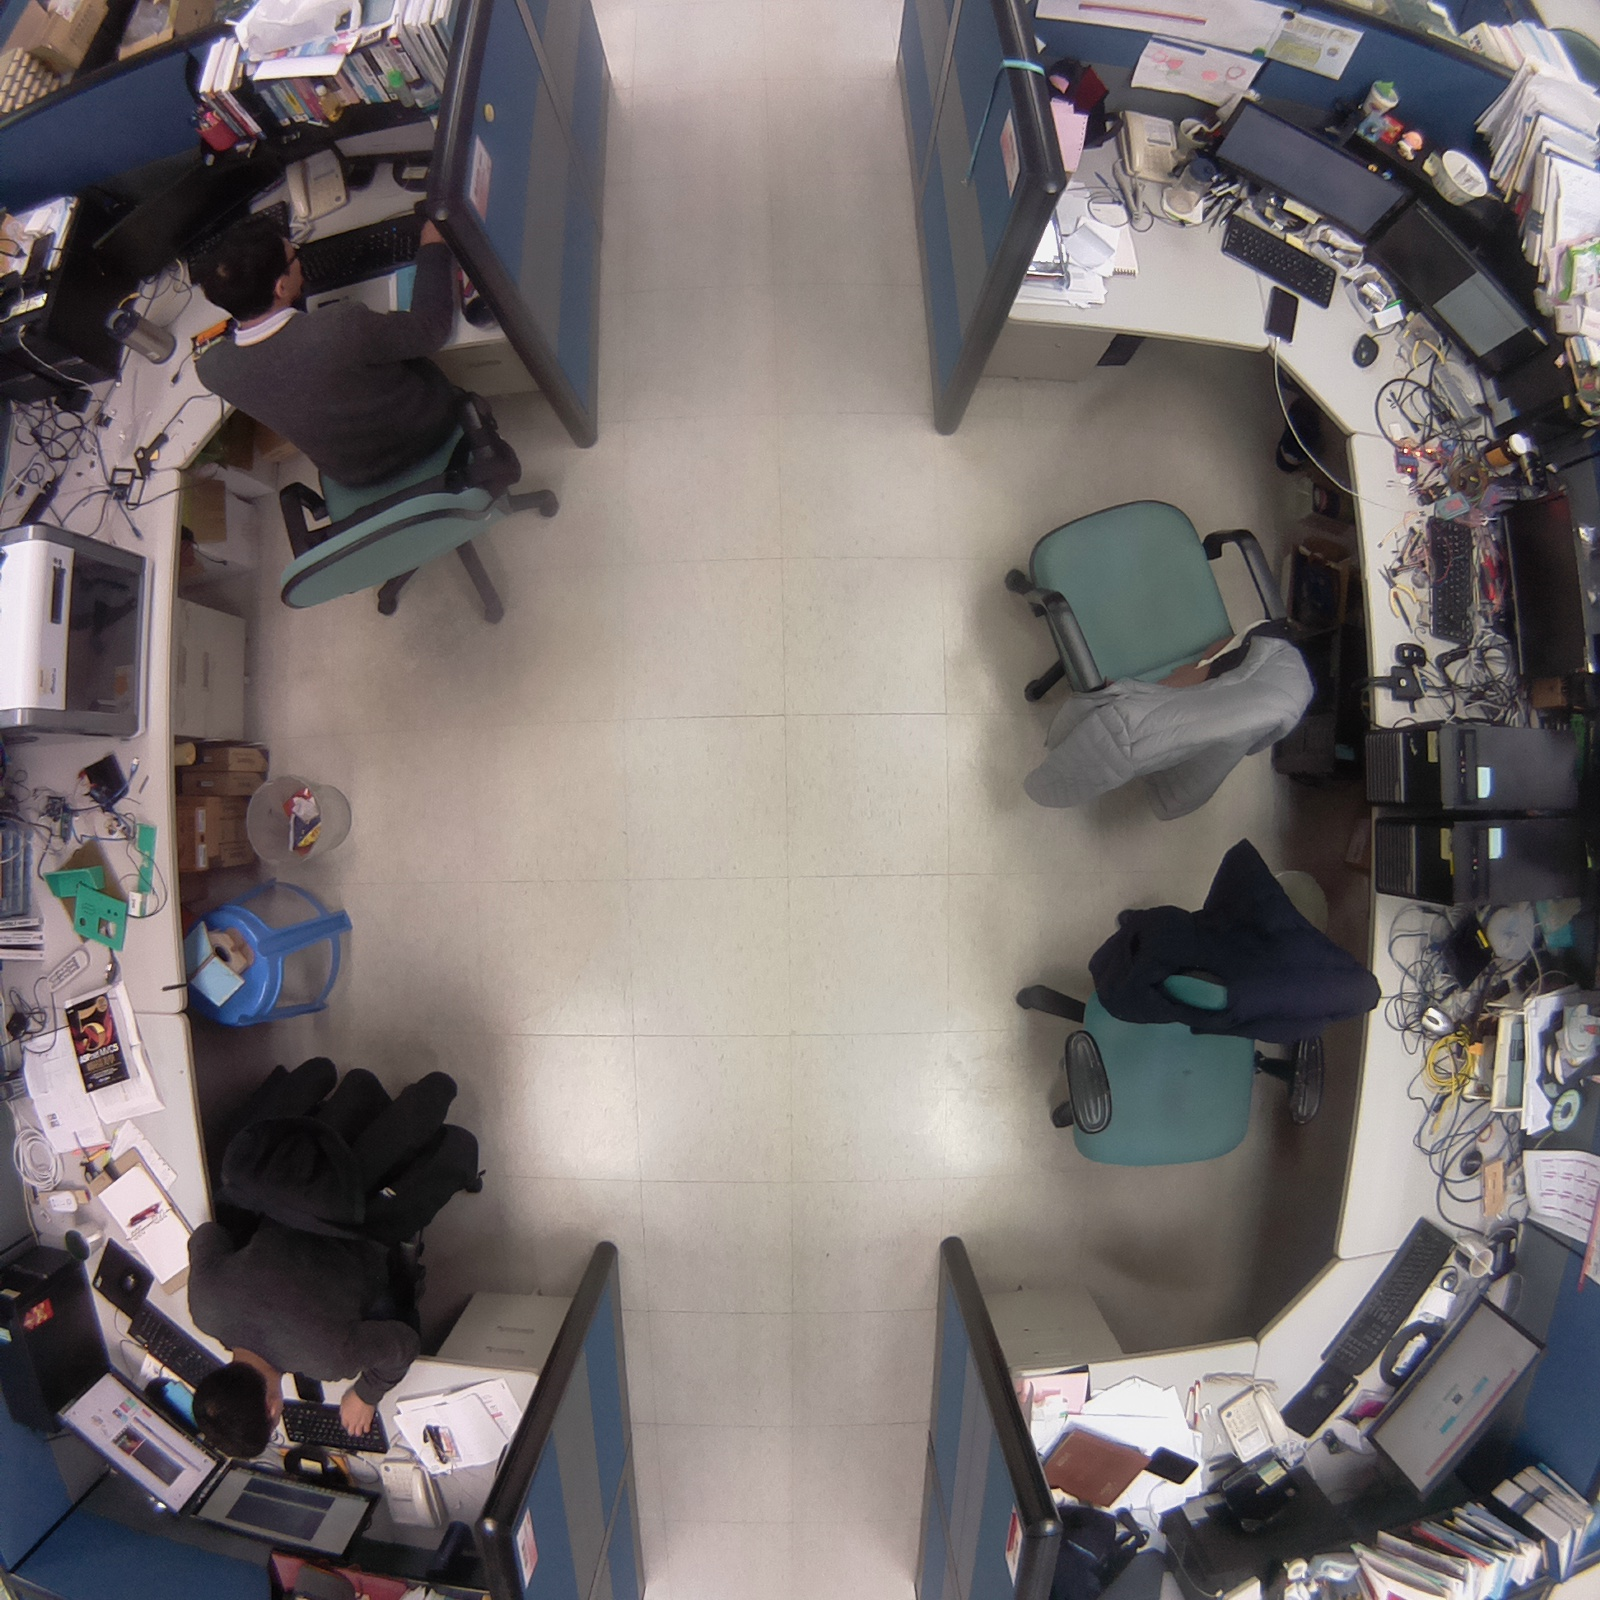chair: (986, 818, 1388, 1179), (986, 482, 1330, 838)
sitting: (168, 180, 596, 648), (157, 1049, 505, 1475)
